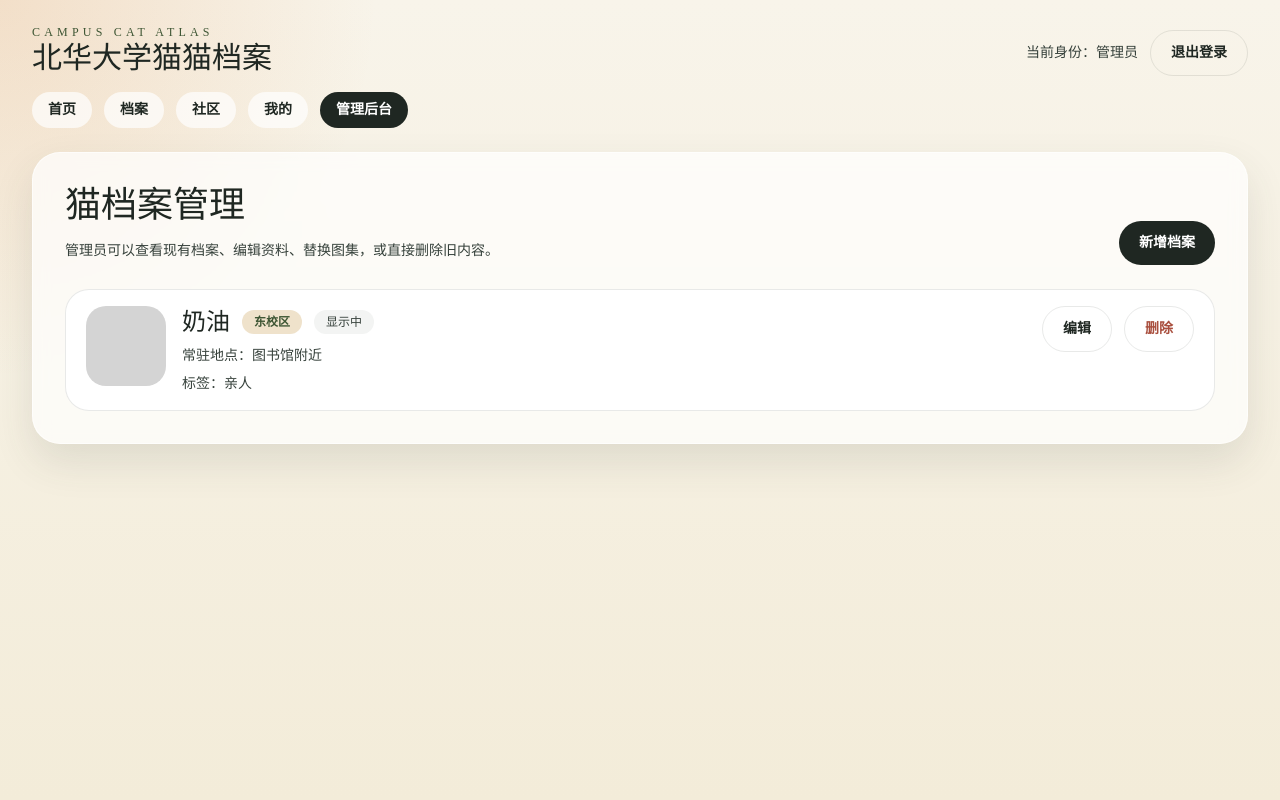
Test: Admin pages › loads admin cats and requires confirm dialog before deleting existing content
Expected: the text "奶油" is shown, [182,306,230,338]
Click the button with aria-label "删除奶油".
click(1159, 329)  # box [1124,306,1194,352]
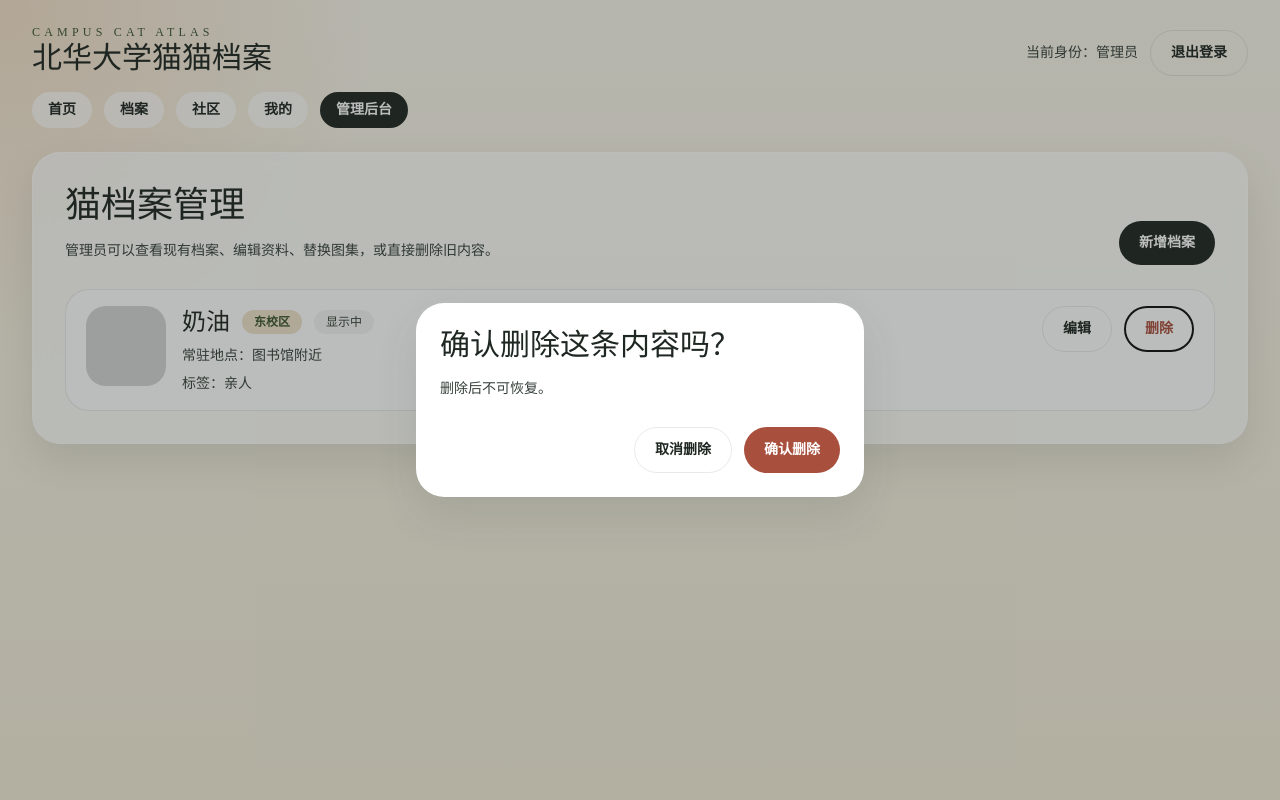
Expected: the heading "确认删除这条内容吗？" is shown, [440,328,740,361]
Expected: the text "删除后不可恢复。" is shown, [440,381,552,396]
Click the button "取消删除".
click(683, 450)  # box [634,427,732,473]
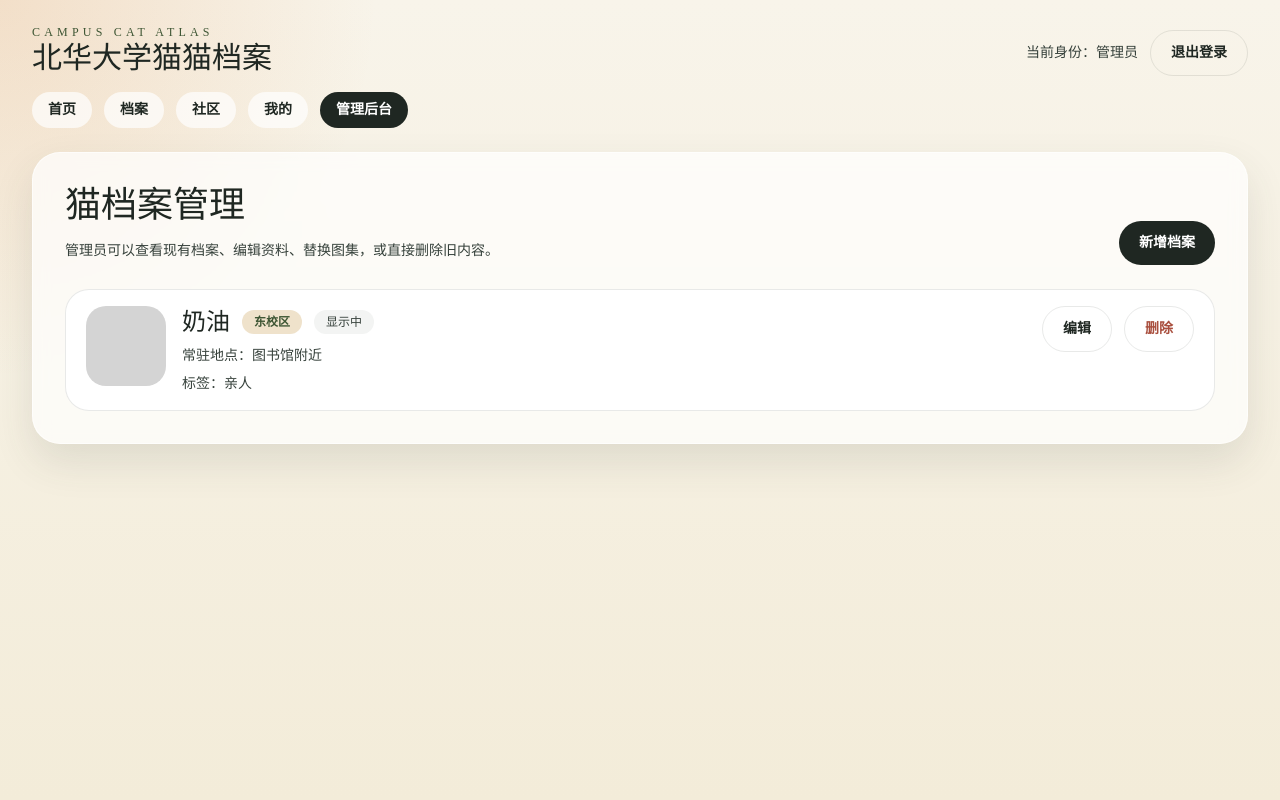
Expected: the text "奶油" is shown, [182,306,230,338]
Expected: the heading "确认删除这条内容吗？" is gone
Click the button with aria-label "删除奶油".
click(1159, 329)  # box [1124,306,1194,352]
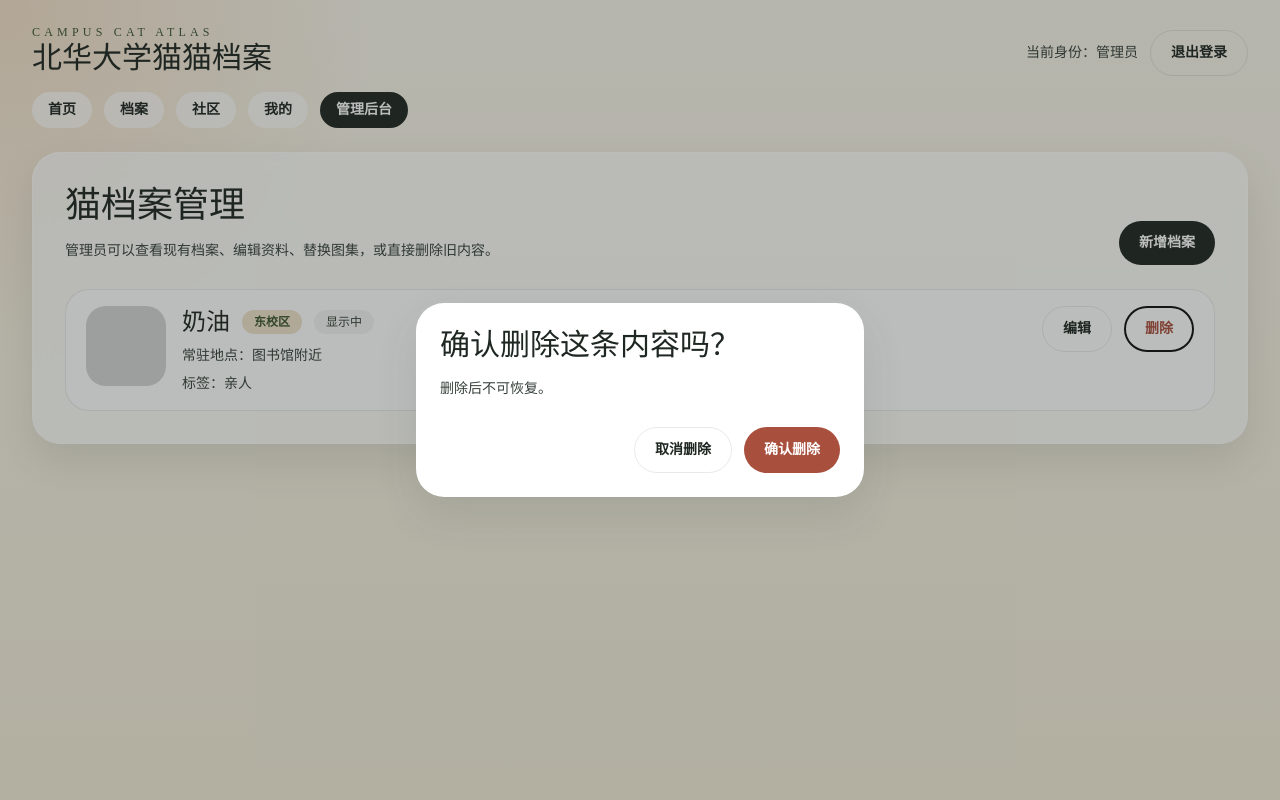
Click the button "确认删除".
click(792, 450)  # box [744,427,840,473]
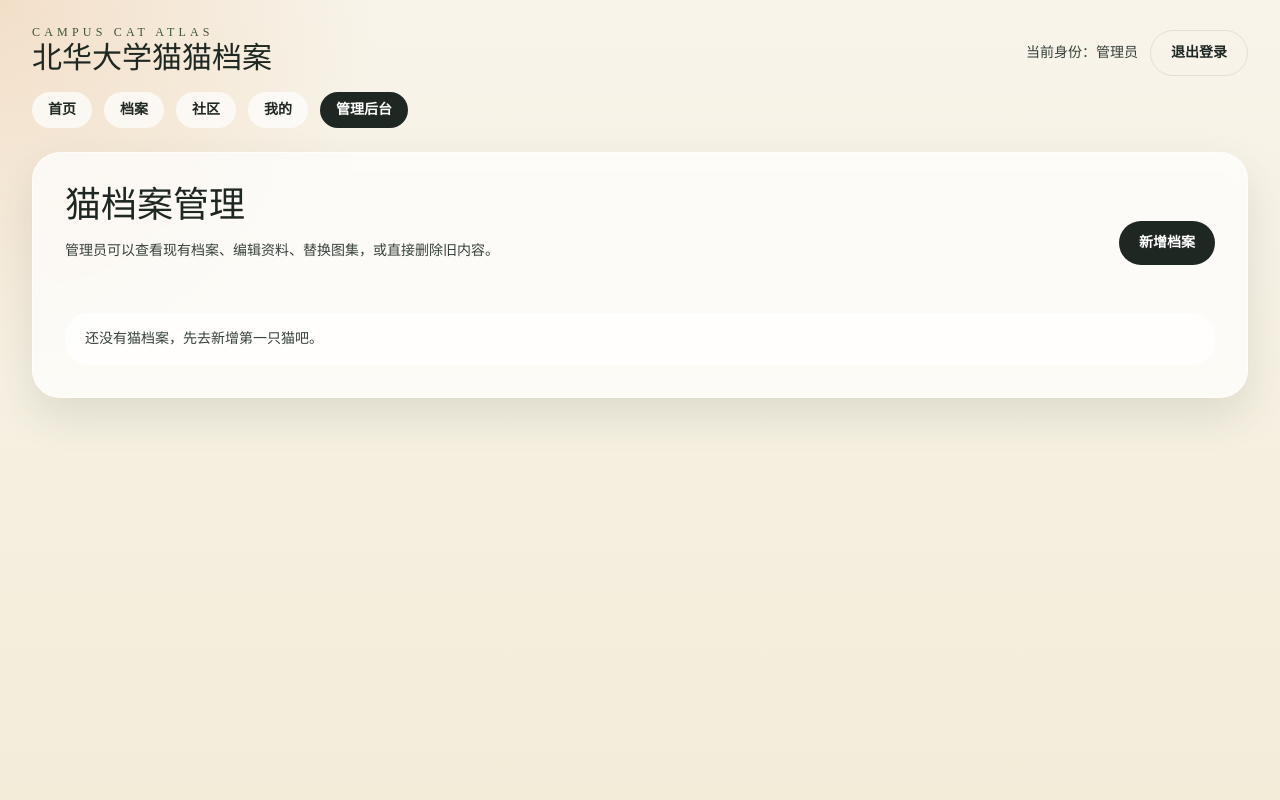
Expected: the text "奶油" is gone
